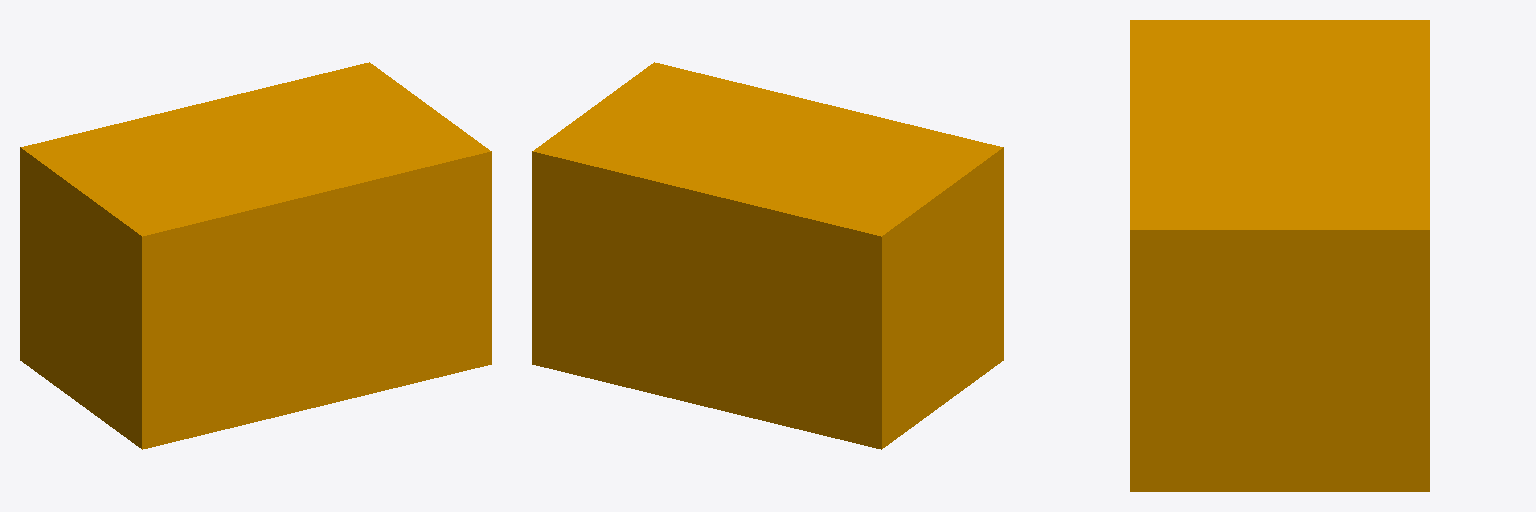
URDF robot description (object):
<?xml version="1.0"?>
<robot name="object">
  <link name="object">
    <visual>
      <origin xyz="0 0 0"/>
      <geometry>
        <mesh filename="meshes/custom/obj8.obj" scale=".07 .07 .07"/>
      </geometry>
    </visual>
    <collision>
      <origin xyz="0 0 0"/>
      <geometry>
        <mesh filename="meshes/custom/obj8.obj" scale=".07 .07 .07"/>
      </geometry>
    </collision>
    <inertial>
      <density value="500.0"/>
    </inertial>
  </link>
</robot>

--- What the picture shows (computed from the rendered views, not written in the file) ---
The picture shows the robot from 3 angles, left to right: view 1: azimuth 30°, elevation 25°; view 2: azimuth 150°, elevation 25°; view 3: azimuth 270°, elevation 25°; orthographic projection.
Model object with 1 links and 0 joints (none), rooted at object, posed every joint at zero.
Visible links, largest first — view 1: object; view 2: object; view 3: object.
Boxes of the visible links, left/top/right/bottom form: object: left=20, top=62, right=491, bottom=449; object: left=532, top=62, right=1003, bottom=449; object: left=1130, top=20, right=1429, bottom=491.
Size in the robot's own frame: 0.0672 by 0.0406 by 0.0392 metres.
1 mesh visuals loaded from 1 distinct referenced files (1 OBJ).
